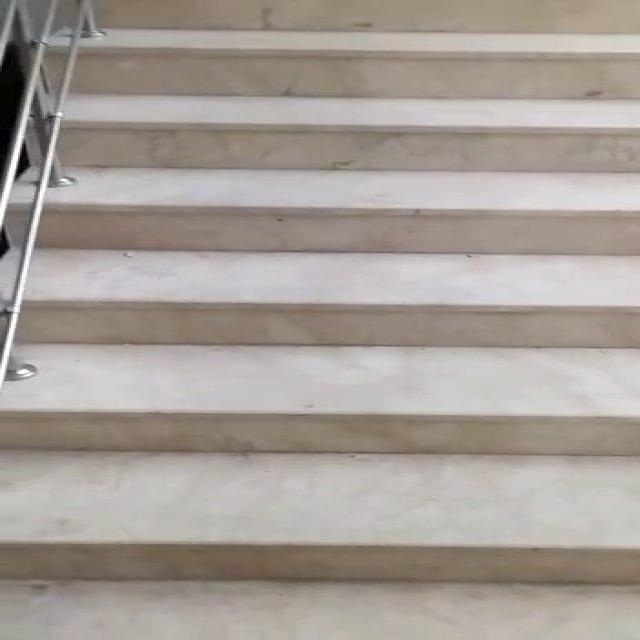stairs: (0, 25, 638, 592)
